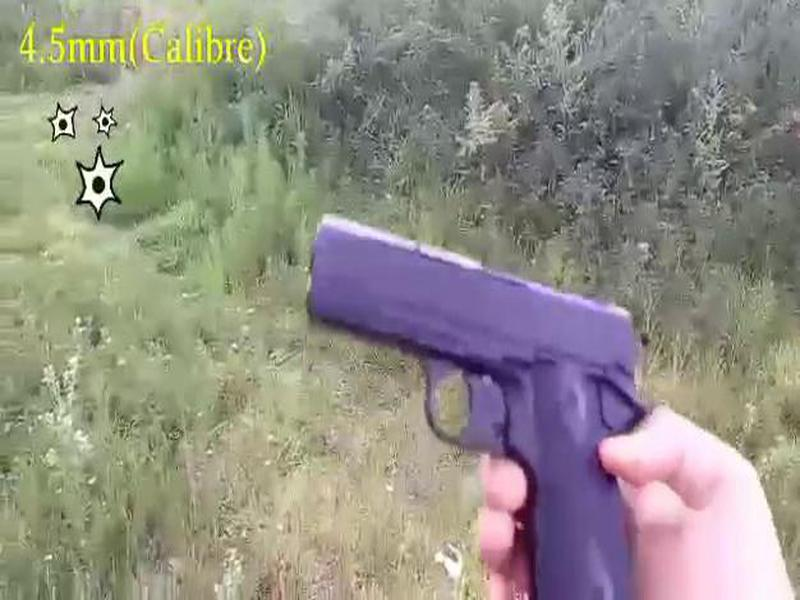Pistola: (279, 199, 676, 600)
